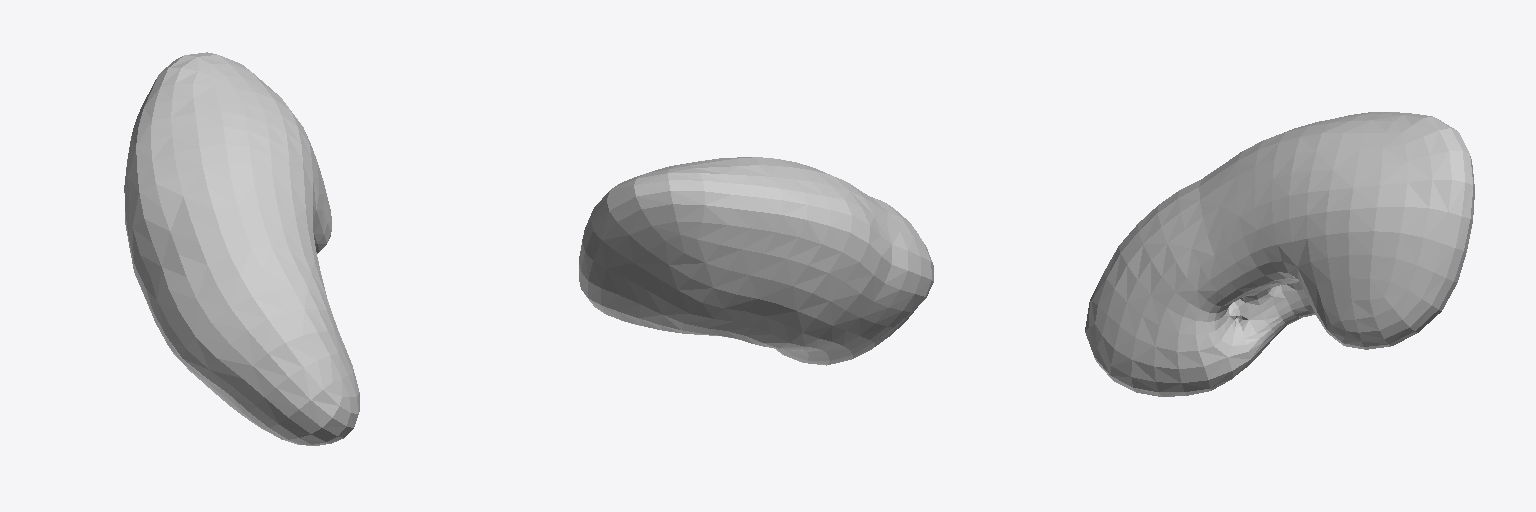
File: 2K_Kidney_Left.OBJ
3 renders of one model, left to right at view 1: azimuth 30°, elevation 25°; view 2: azimuth 150°, elevation 25°; view 3: azimuth 270°, elevation 25°, orthographic.
Parts seen in each view (by area): view 1: ZBrushPolyMesh3D; view 2: ZBrushPolyMesh3D; view 3: ZBrushPolyMesh3D.
Part boxes in pixels (x1,y1,x2,y2): ZBrushPolyMesh3D: (124,52,359,445); ZBrushPolyMesh3D: (579,157,933,365); ZBrushPolyMesh3D: (1085,112,1474,396).
Size of the model in its own units: 9.29 by 10.11 by 13.1.